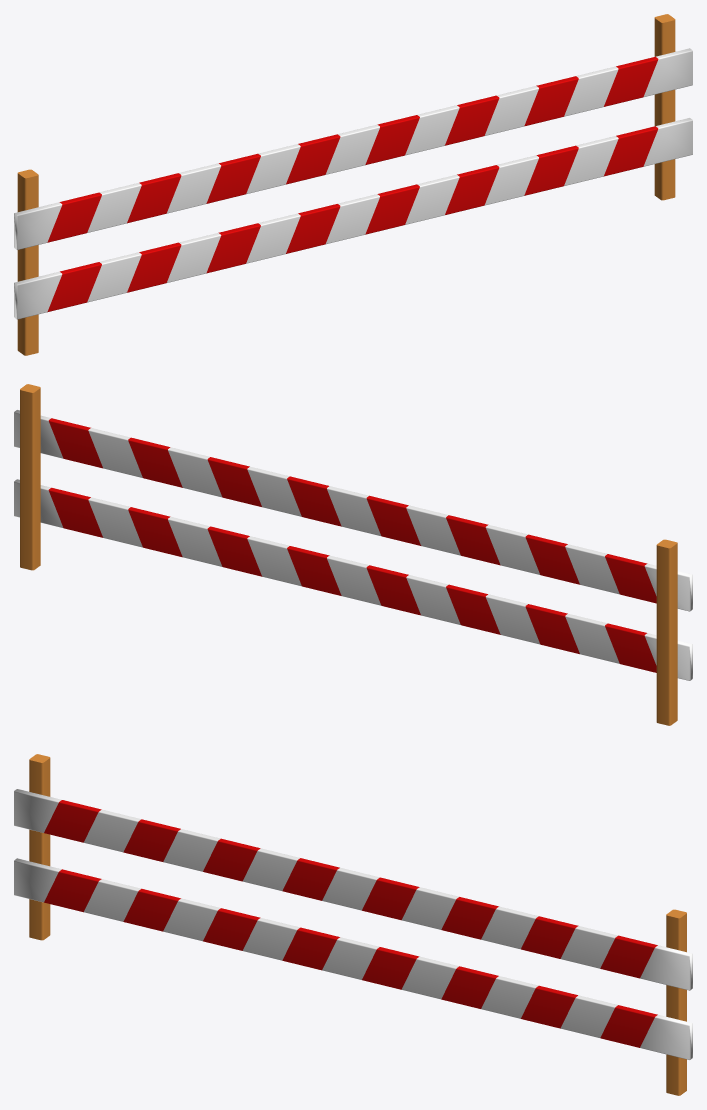
File: engelTek.fbx
3 renders of one model, top to bottom at view 1: azimuth 30°, elevation 25°; view 2: azimuth 150°, elevation 25°; view 3: azimuth 330°, elevation 25°, orthographic.
Visible parts, largest first — view 1: Cube, Cube.016, Cube.003, Cube.002; view 2: Cube.016, Cube, Cube.003, Cube.002; view 3: Cube, Cube.016, Cube.003, Cube.002.
Part boxes in pixels (x1,y1,x2,y2): Cube: [14, 48, 692, 249]; Cube.016: [14, 118, 692, 319]; Cube.003: [17, 169, 38, 355]; Cube.002: [654, 14, 675, 200]; Cube.016: [14, 479, 692, 680]; Cube: [14, 410, 692, 611]; Cube.003: [656, 539, 677, 725]; Cube.002: [20, 384, 40, 570]; Cube: [14, 789, 692, 990]; Cube.016: [14, 858, 692, 1059]; Cube.003: [29, 754, 50, 940]; Cube.002: [666, 909, 686, 1095].
Size of the model in its own units: 272 by 68.23 by 8.14.
